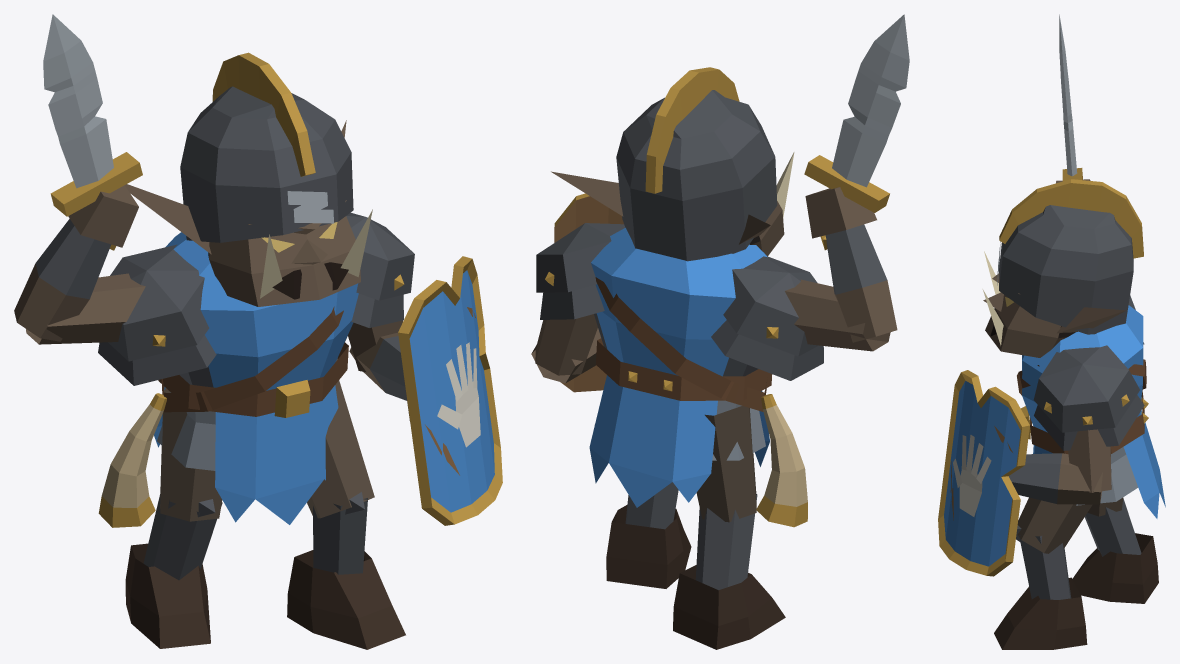
File: ugluk-3.glb
3 renders of one model, left to right at view 1: azimuth 30°, elevation 25°; view 2: azimuth 150°, elevation 25°; view 3: azimuth 270°, elevation 25°, orthographic. The views are drawn at different scales.
Parts seen in each view (by area): view 1: ugluk-3; view 2: ugluk-3; view 3: ugluk-3.
Boxes of the visible parts, x1,y1,x2,y2 form: ugluk-3: [14, 14, 502, 649]; ugluk-3: [531, 14, 909, 649]; ugluk-3: [938, 14, 1165, 649].
Bounding box in the file's own units: 1.24 × 1.86 × 0.7443.
